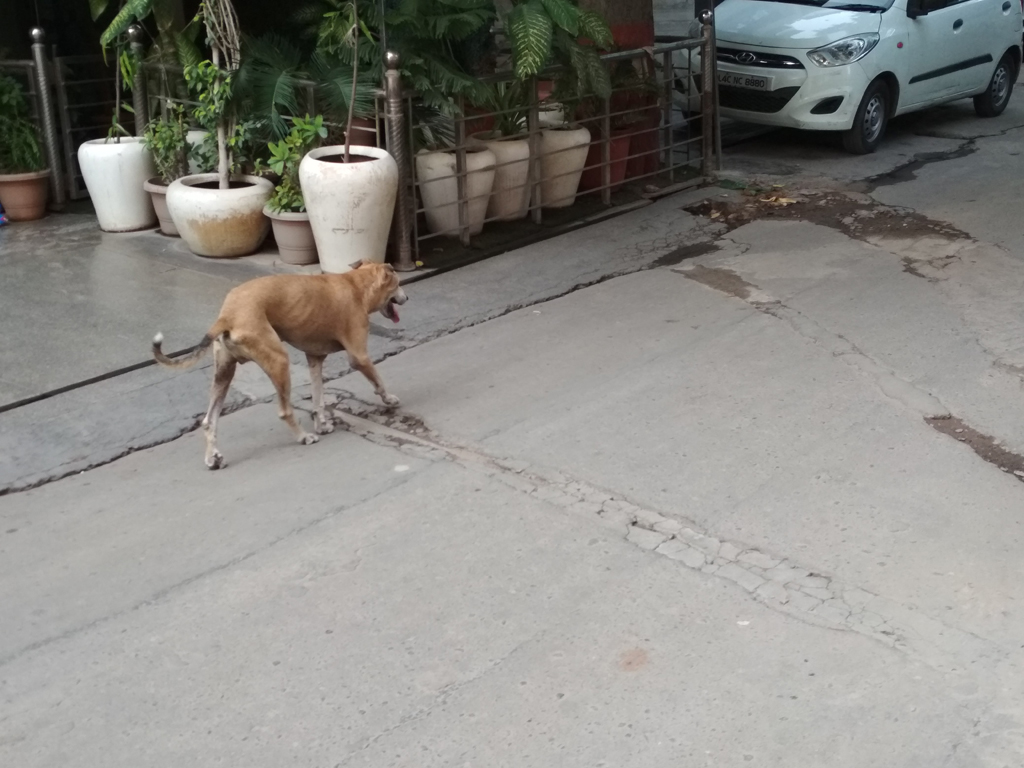dog: (152, 261, 409, 469)
